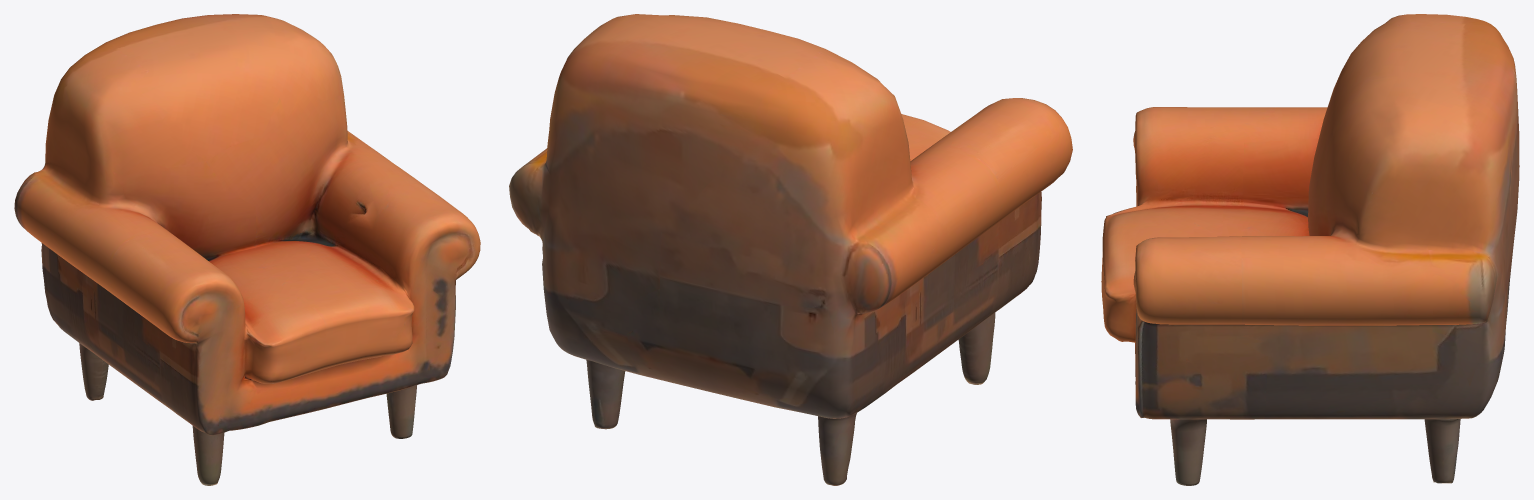
The model's file is armchair.glb.
The picture shows the model from 3 angles, left to right: view 1: azimuth 30°, elevation 25°; view 2: azimuth 150°, elevation 25°; view 3: azimuth 270°, elevation 25°; orthographic projection. The views are drawn at different scales.
Bounding box in the file's own units: 1.93 × 1.99 × 2.
1 material, 1 textured.
